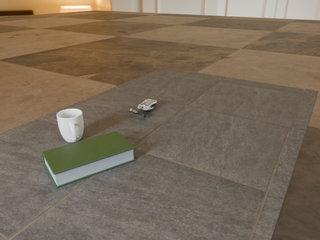book: (42, 131, 136, 188)
cup: (57, 109, 84, 142)
mouse: (138, 99, 157, 111)
